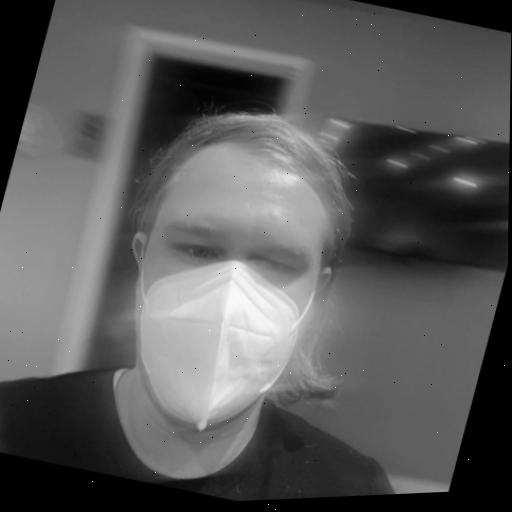mask: (55, 66, 397, 477)
